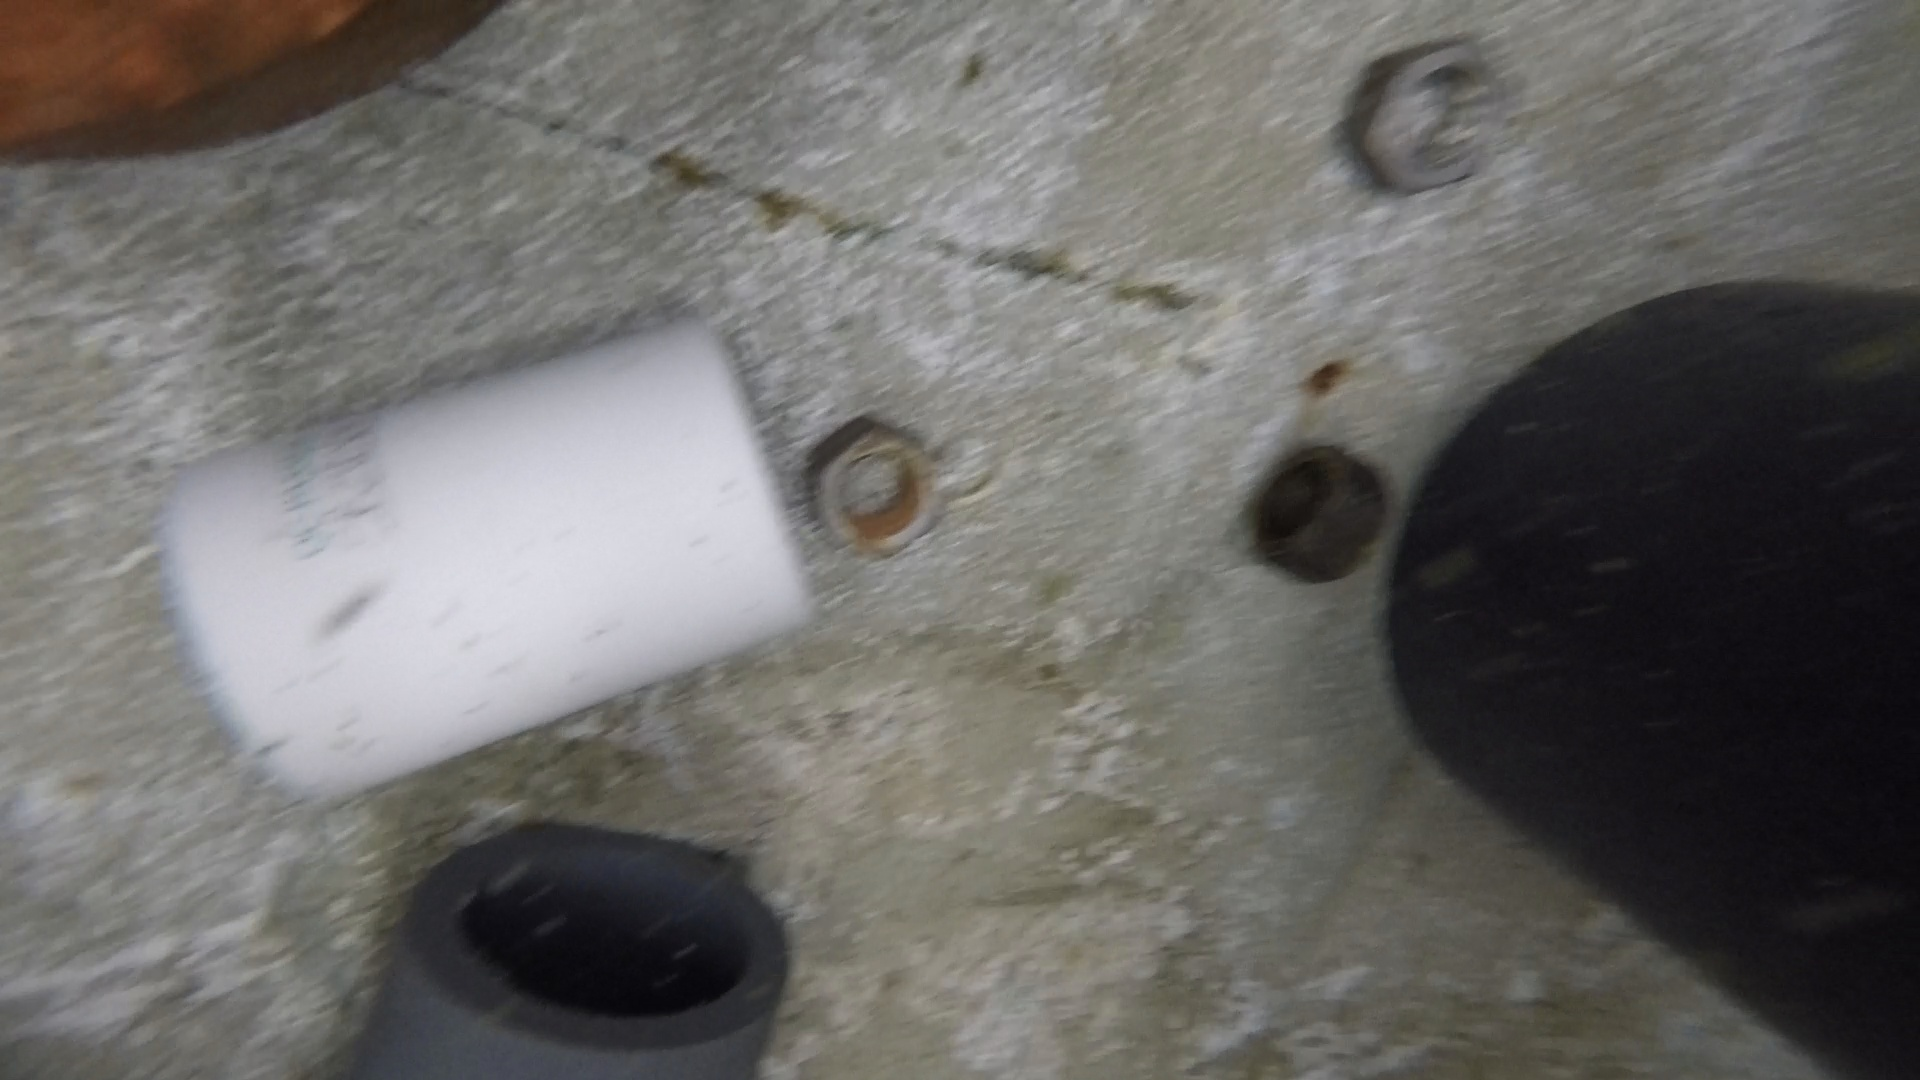flange: (4, 1, 506, 165)
nut: (1348, 36, 1505, 193), (810, 415, 945, 564), (1250, 446, 1393, 587)
pipe: (1385, 274, 1920, 1079), (162, 315, 822, 807), (353, 822, 789, 1080)
